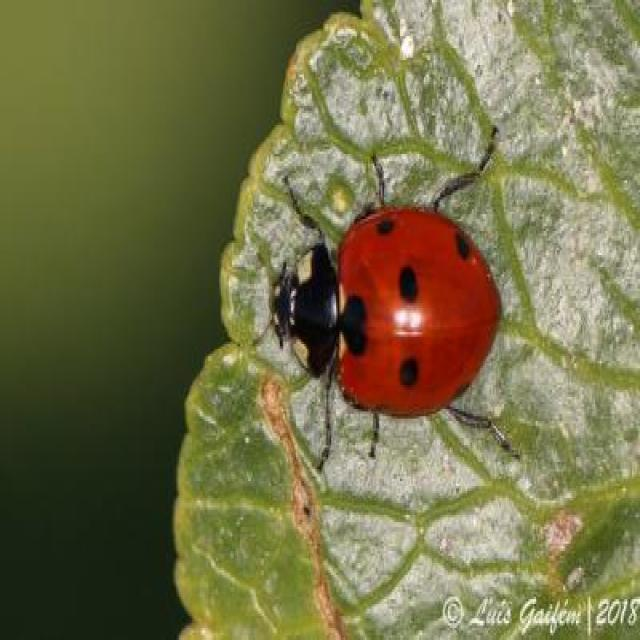antennae: (254, 238, 276, 367)
body: (274, 216, 503, 415)
insect: (253, 123, 520, 475)
legs: (305, 365, 520, 477), (276, 128, 518, 224)
wings: (340, 205, 502, 416)
